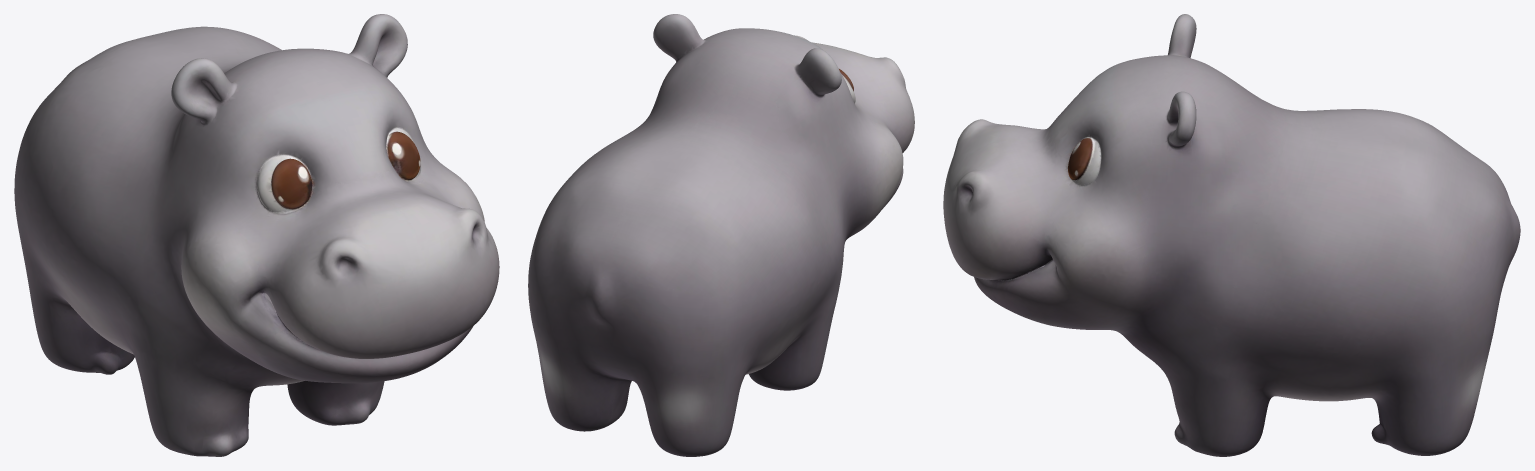
The model's file is Ippopotamo.glb.
The picture shows the model from 3 angles, left to right: view 1: azimuth 30°, elevation 25°; view 2: azimuth 150°, elevation 25°; view 3: azimuth 270°, elevation 25°; orthographic projection. The views are drawn at different scales.
Size of the model in its own units: 1.05 by 1.31 by 1.9.
Materials: 1 (1 with a texture image).
